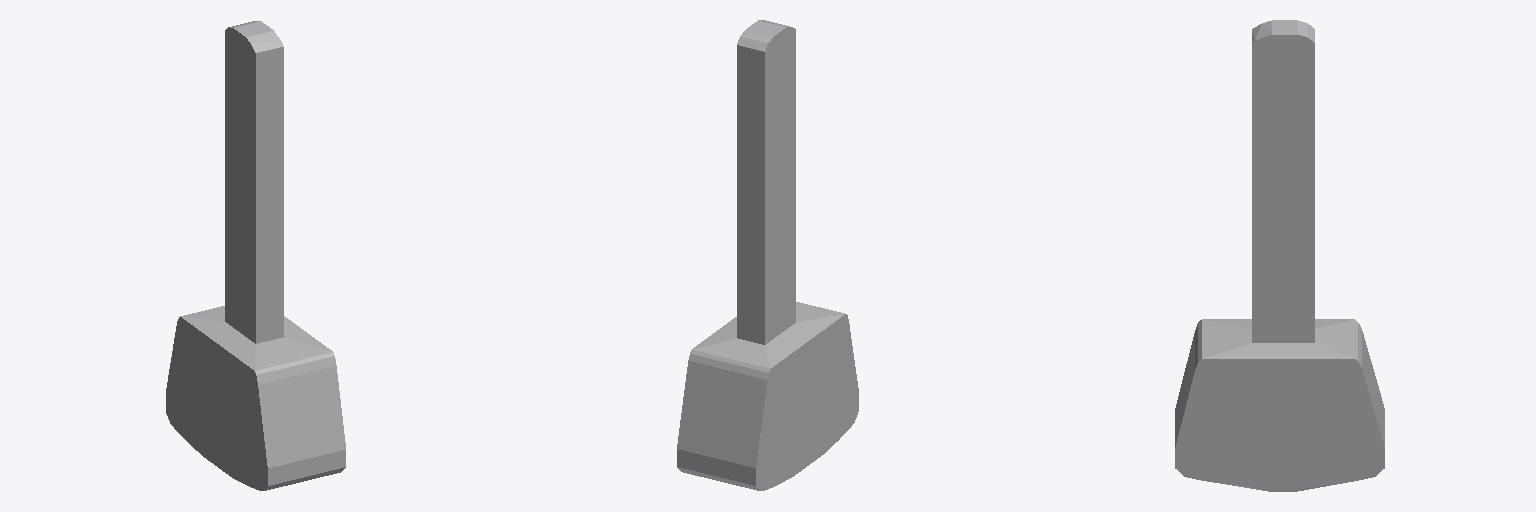
robot.urdf — root:
<robot name="root">
  <link name="link_7642adafe0acb0c9237d2ba130b47fd2_convex_piece_0">
    <inertial>
      <origin rpy="0 0 0" xyz="0 0 0"/>
      <mass value="1.12E-05"/>
      <inertia ixx="-1.72E-08" ixy="3.63E-13" ixz="7.01E-11" iyy="-1.84E-08" iyz="-3.41E-10" izz="1.89E-09"/>
    </inertial>
    <visual>
      <origin rpy="0 0 0" xyz="0 0 0"/>
      <geometry>
        <mesh filename="7642adafe0acb0c9237d2ba130b47fd2_convex_piece_0.obj" scale="1.0000E+00"/>
      </geometry>
      <material name="">
        <color rgba="7.50E-01 7.50E-01 7.50E-01 1"/>
      </material>
    </visual>
    <collision>
      <origin rpy="0 0 0" xyz="0 0 0"/>
      <geometry>
        <mesh filename="7642adafe0acb0c9237d2ba130b47fd2_convex_piece_0.obj" scale="1.0000E+00"/>
      </geometry>
    </collision>
  </link>
  <link name="link_7642adafe0acb0c9237d2ba130b47fd2_convex_piece_1">
    <inertial>
      <origin rpy="0 0 0" xyz="0 0 0"/>
      <mass value="3.06E-06"/>
      <inertia ixx="-7.02E-09" ixy="-3.23E-13" ixz="-9.29E-12" iyy="-7.05E-09" iyz="-7.76E-11" izz="6.08E-11"/>
    </inertial>
    <visual>
      <origin rpy="0 0 0" xyz="0 0 0"/>
      <geometry>
        <mesh filename="7642adafe0acb0c9237d2ba130b47fd2_convex_piece_1.obj" scale="1.0000E+00"/>
      </geometry>
      <material name="">
        <color rgba="7.50E-01 7.50E-01 7.50E-01 1"/>
      </material>
    </visual>
    <collision>
      <origin rpy="0 0 0" xyz="0 0 0"/>
      <geometry>
        <mesh filename="7642adafe0acb0c9237d2ba130b47fd2_convex_piece_1.obj" scale="1.0000E+00"/>
      </geometry>
    </collision>
  </link>
  <joint name="link_7642adafe0acb0c9237d2ba130b47fd2_convex_piece_1_joint" type="fixed">
    <origin rpy="0 0 0" xyz="0 0 0"/>
    <parent link="link_7642adafe0acb0c9237d2ba130b47fd2_convex_piece_0"/>
    <child link="link_7642adafe0acb0c9237d2ba130b47fd2_convex_piece_1"/>
  </joint>
</robot>

--- Facts derived from the render (not from the file) ---
Views: 3 orthographic renders of the robot side by side, from view 1: azimuth 30°, elevation 25°; view 2: azimuth 150°, elevation 25°; view 3: azimuth 270°, elevation 25°.
Model root with 2 links and 1 joints (1 fixed), rooted at link_7642adafe0acb0c9237d2ba130b47fd2_convex_piece_0, posed all joints at 0.
Visible links, largest first — view 1: link_7642adafe0acb0c9237d2ba130b47fd2_convex_piece_0, link_7642adafe0acb0c9237d2ba130b47fd2_convex_piece_1; view 2: link_7642adafe0acb0c9237d2ba130b47fd2_convex_piece_0, link_7642adafe0acb0c9237d2ba130b47fd2_convex_piece_1; view 3: link_7642adafe0acb0c9237d2ba130b47fd2_convex_piece_0, link_7642adafe0acb0c9237d2ba130b47fd2_convex_piece_1.
Link boxes in pixels (box(x1,y1,x2,y2)): link_7642adafe0acb0c9237d2ba130b47fd2_convex_piece_0: box(166, 306, 345, 490); link_7642adafe0acb0c9237d2ba130b47fd2_convex_piece_1: box(225, 21, 283, 343); link_7642adafe0acb0c9237d2ba130b47fd2_convex_piece_0: box(677, 302, 858, 490); link_7642adafe0acb0c9237d2ba130b47fd2_convex_piece_1: box(737, 20, 795, 344); link_7642adafe0acb0c9237d2ba130b47fd2_convex_piece_0: box(1175, 319, 1384, 491); link_7642adafe0acb0c9237d2ba130b47fd2_convex_piece_1: box(1252, 20, 1314, 342).
Bounding box of the posed robot: 0.0202 × 0.0455 × 0.109 m (x, y, z).
Meshes: 2 distinct files referenced, 2 mesh visuals loaded (2 OBJ).